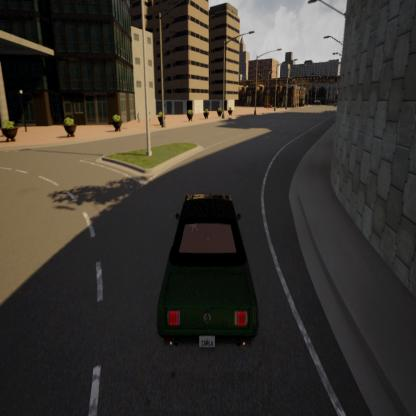Cars: (142, 184, 267, 353)
